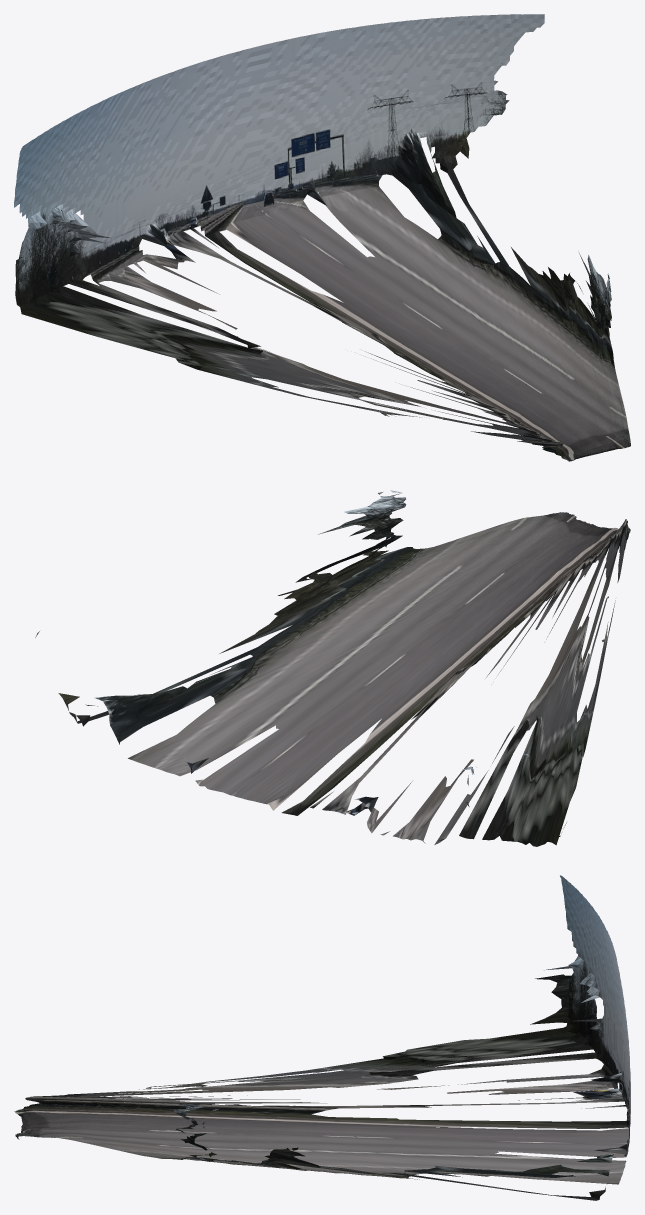
3 renders of one model, top to bottom at view 1: azimuth 30°, elevation 25°; view 2: azimuth 150°, elevation 25°; view 3: azimuth 270°, elevation 25°, orthographic. The views are drawn at different scales.
Visible parts, largest first — view 1: defaultobject; view 2: defaultobject; view 3: defaultobject.
Part boxes in pixels (left/top/right/bottom): defaultobject: left=14, top=14, right=630, bottom=461; defaultobject: left=35, top=490, right=630, bottom=846; defaultobject: left=14, top=875, right=630, bottom=1200.
Bounding box in the file's own units: 39.53 × 13.47 × 44.77.
Materials: 1 (1 with a texture image).
